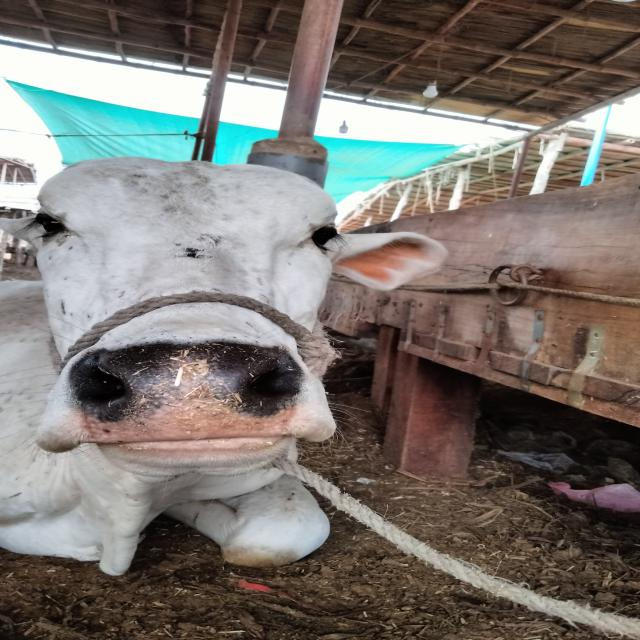muzzles: (50, 343, 329, 456)
